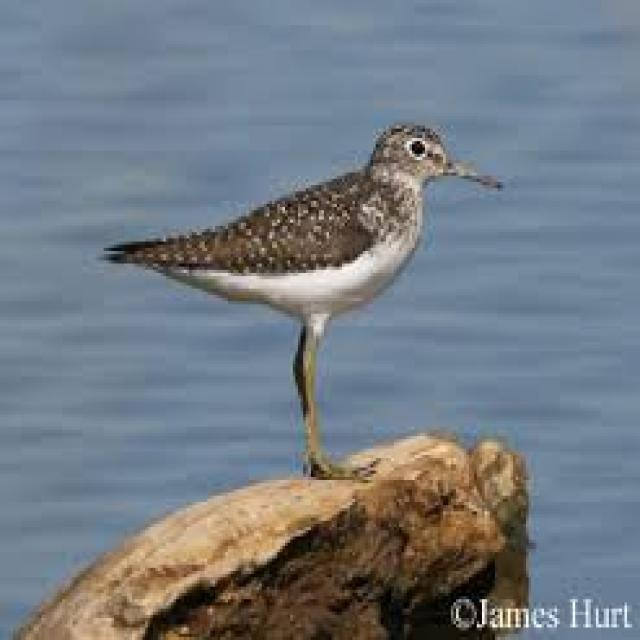Sandpiper: (104, 118, 506, 484)
